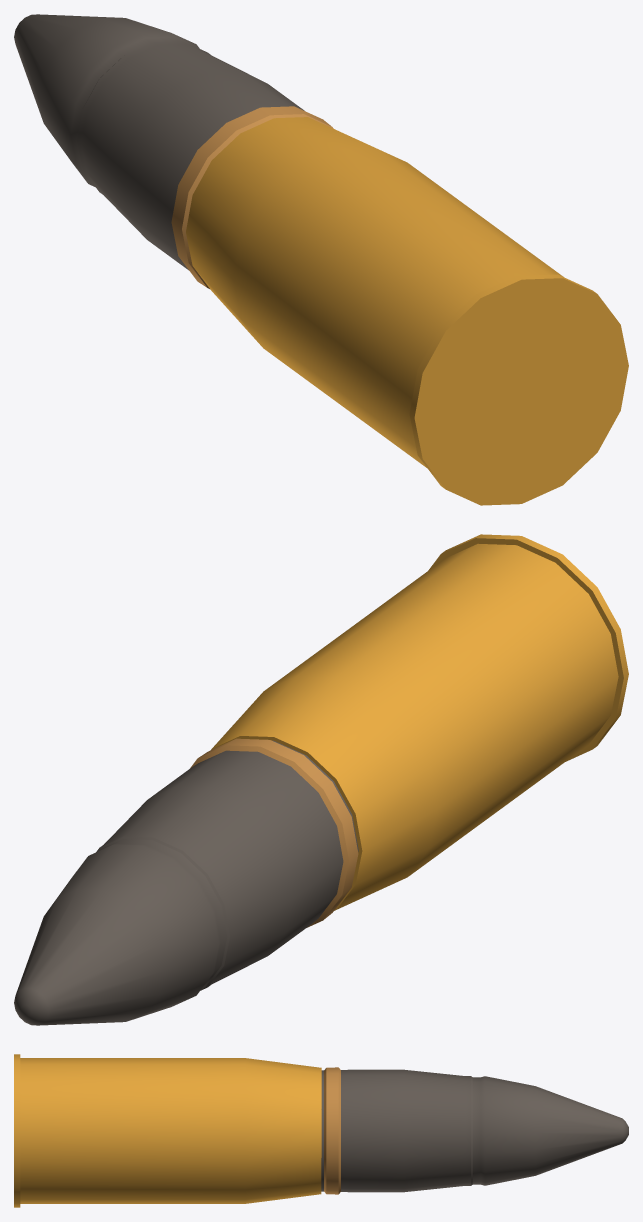
File: ap_shell_76.fbx
3 views of the same model, one above another, from view 1: azimuth 30°, elevation 25°; view 2: azimuth 150°, elevation 25°; view 3: azimuth 270°, elevation 25° (orthographic). The views are drawn at different scales.
Parts seen in each view (by area): view 1: Case; view 2: Case; view 3: Case.
Boxes of the visible parts, x1,y1,x2,y2 form: Case: (14,14,628,505); Case: (14,534,628,1025); Case: (14,1054,628,1207).
Size of the model in its own units: 100 by 100 by 400.
